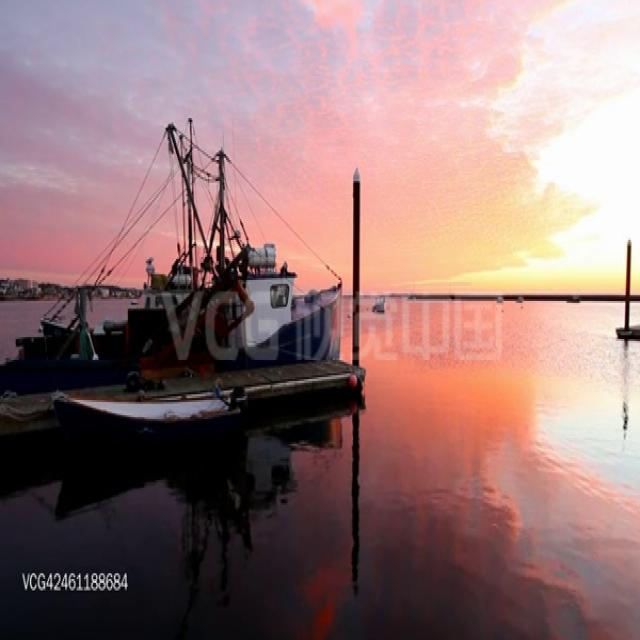fishing boat: (0, 116, 336, 389)
